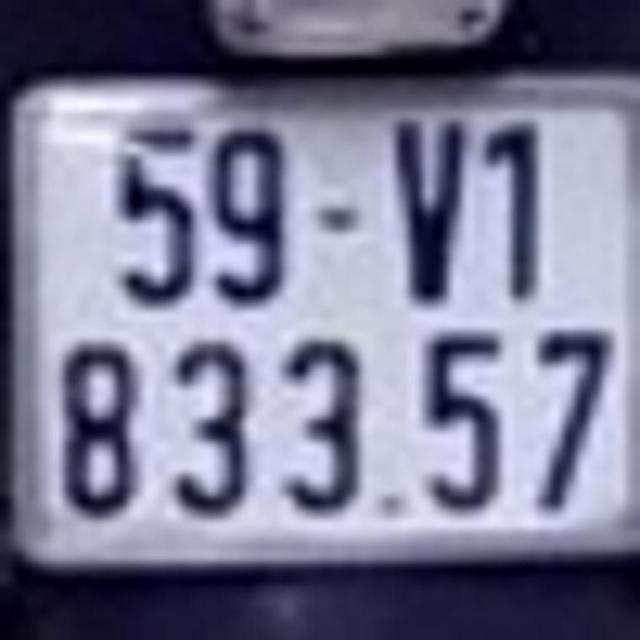1: (482, 109, 545, 308)
3: (282, 331, 362, 519), (174, 322, 245, 525)
5: (424, 319, 507, 515), (120, 111, 197, 307)
7: (533, 321, 611, 513)
8: (57, 324, 138, 519)
9: (206, 114, 288, 312)
V: (392, 111, 467, 304)
